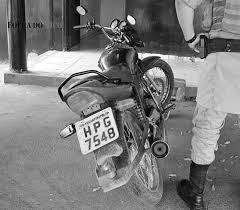placa_antiga: (75, 107, 119, 157)
